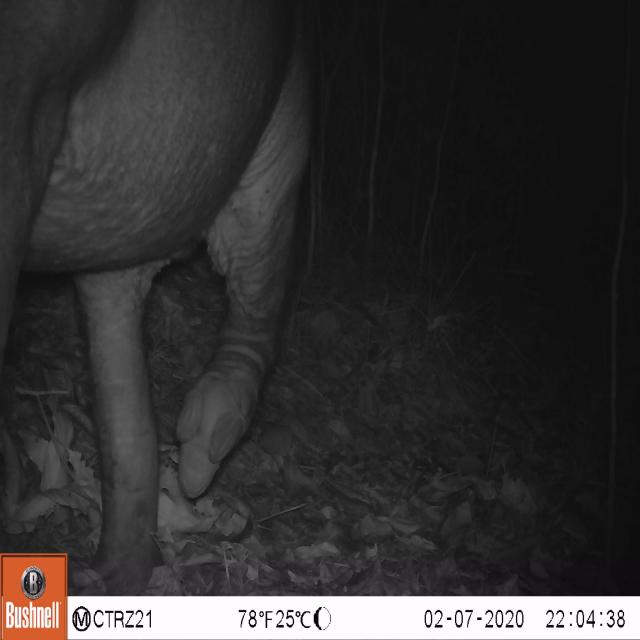Lowland Tapir: (0, 4, 314, 599)
